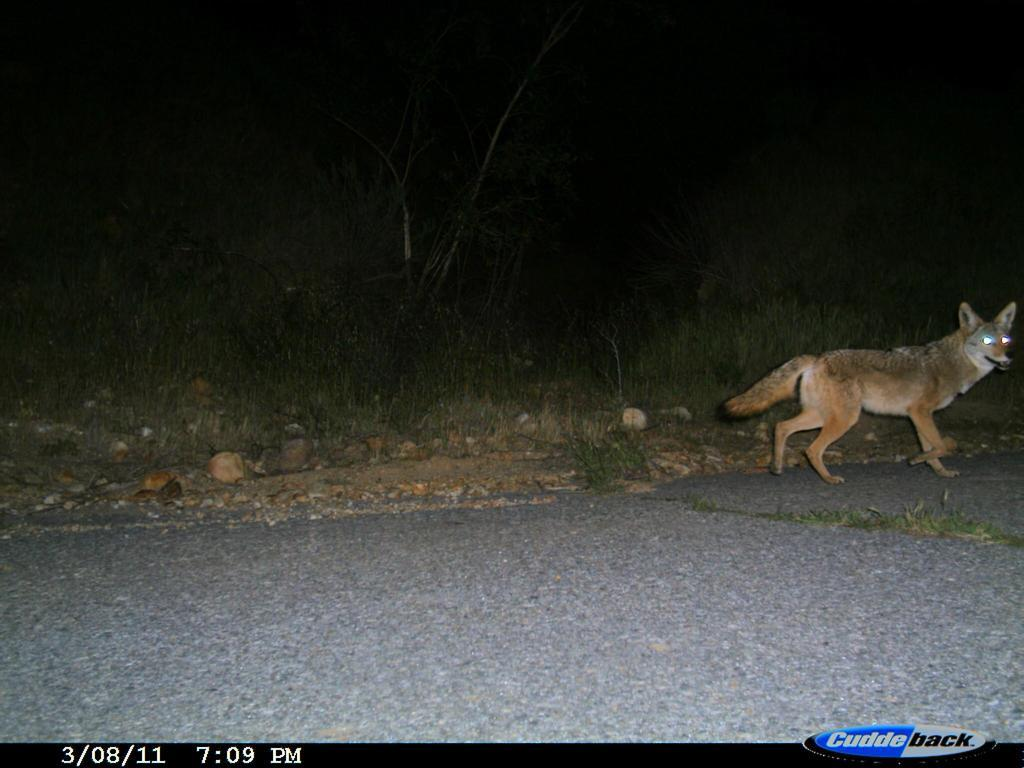coyote: (719, 290, 1018, 505)
